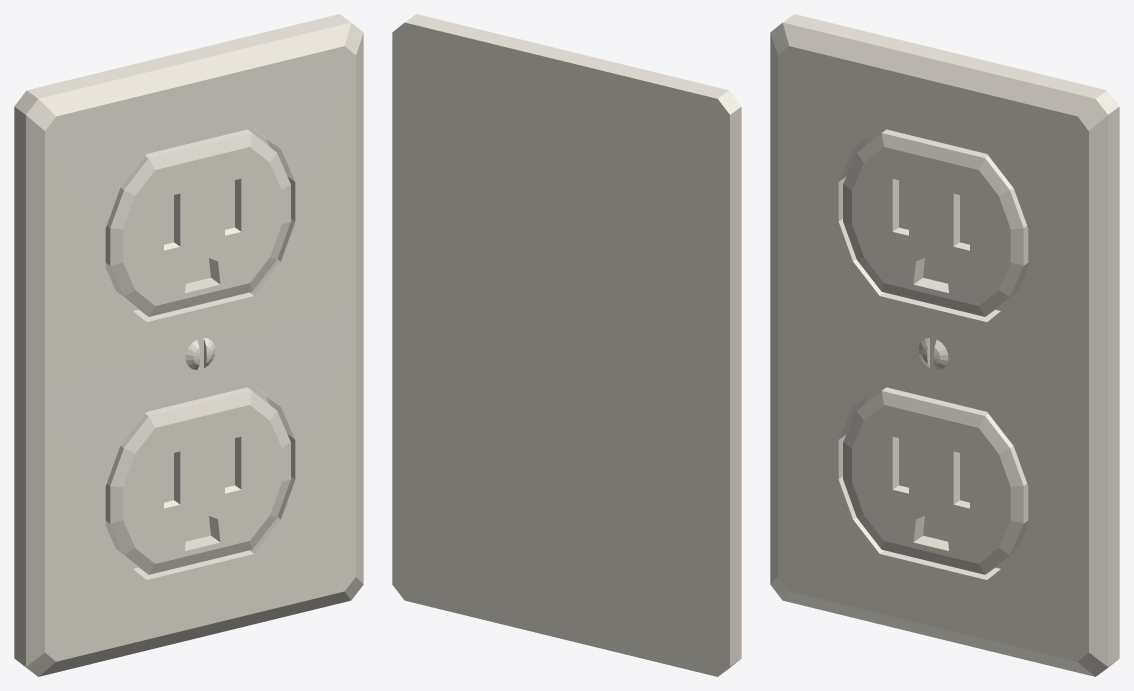
The model's file is 1326 Outlet.obj.
3 renders of one model, left to right at view 1: azimuth 30°, elevation 25°; view 2: azimuth 150°, elevation 25°; view 3: azimuth 330°, elevation 25°, orthographic.
Visible parts, largest first — view 1: Outlet; view 2: Outlet; view 3: Outlet.
Part boxes in pixels (x1,y1,x2,y2): Outlet: [14, 14, 363, 676]; Outlet: [392, 14, 741, 676]; Outlet: [770, 14, 1119, 676].
Bounding box in the file's own units: 20.11 × 32.88 × 2.1.
1 material, 1 textured.
